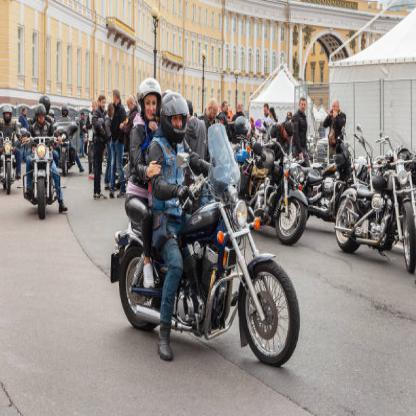Motorcycle: (115, 162, 302, 370), (339, 148, 416, 266), (257, 136, 321, 234), (22, 131, 67, 213)
